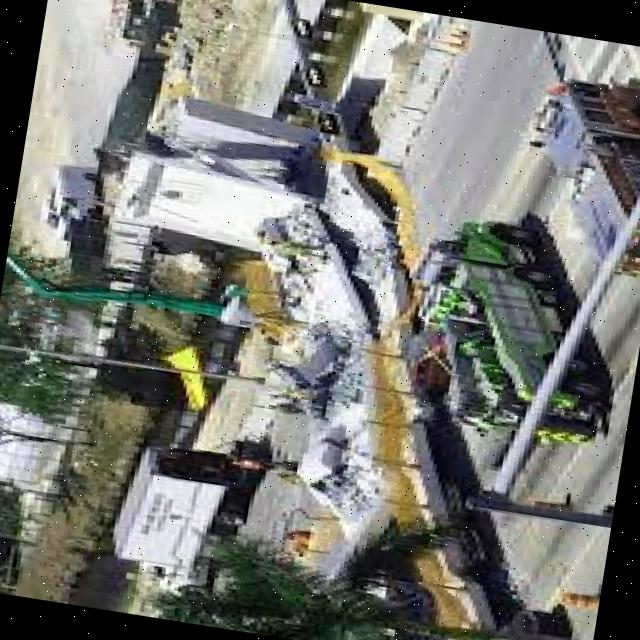bridge collapse: (77, 0, 606, 640)
